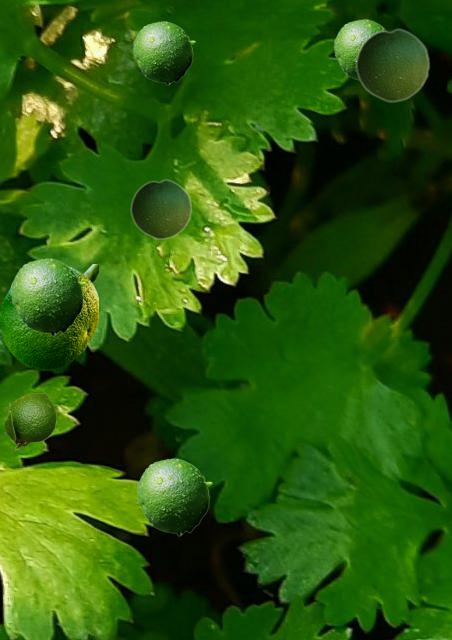dalandan: (0, 264, 97, 369), (11, 258, 85, 335), (137, 458, 211, 535), (355, 27, 429, 102), (133, 21, 194, 84), (130, 178, 191, 239), (334, 19, 385, 80), (3, 393, 55, 451)
